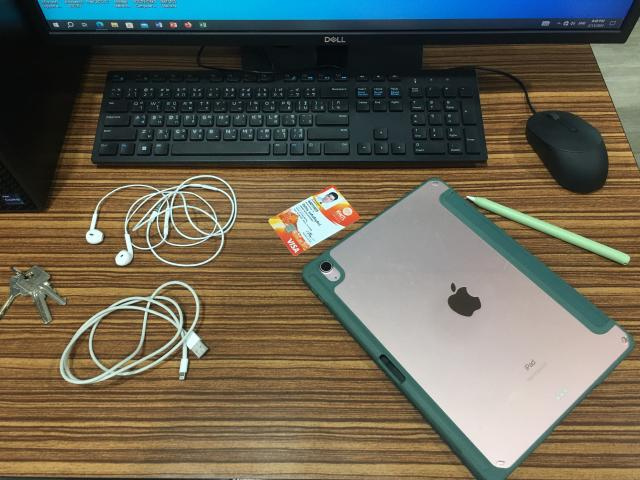Keys: (0, 266, 65, 323)
Mouse: (526, 111, 611, 196)
wire: (62, 283, 210, 385), (82, 176, 239, 269)
